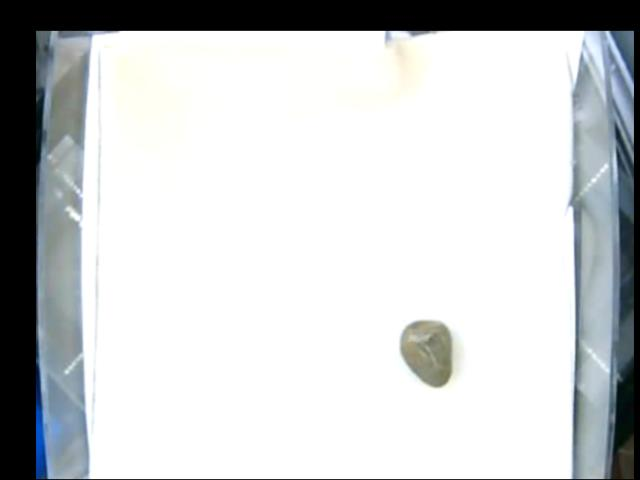Pebble: (400, 318, 452, 389)
